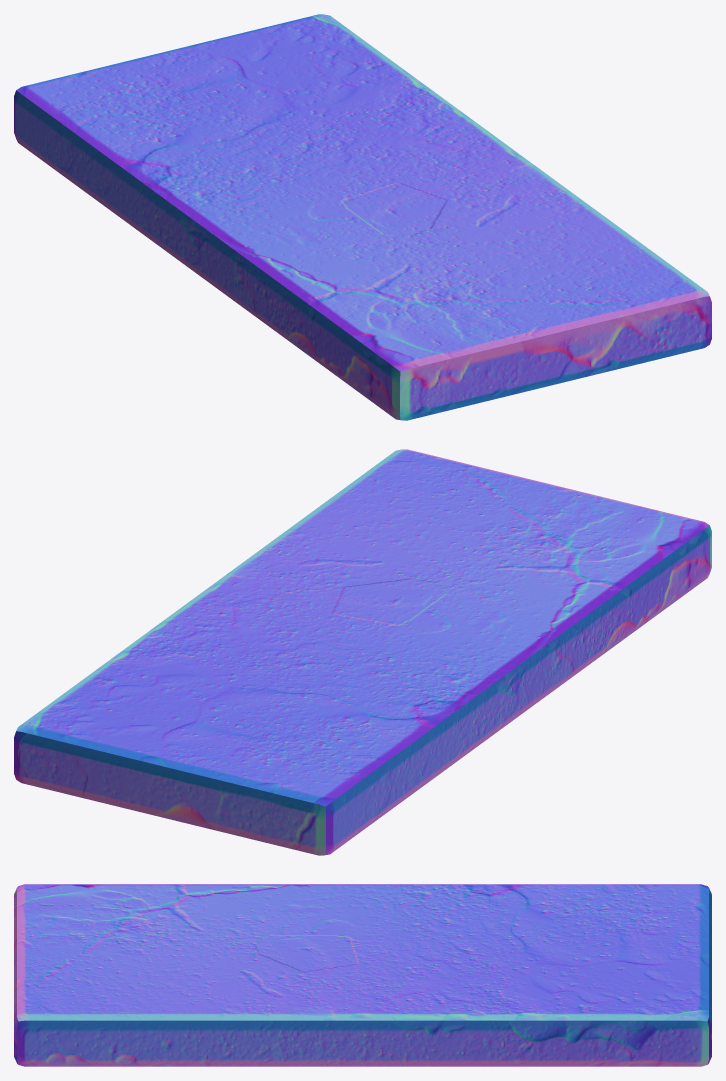
Rendered from Props_StoneShelf.fbx.
3 views of the same model, one above another, from view 1: azimuth 30°, elevation 25°; view 2: azimuth 150°, elevation 25°; view 3: azimuth 270°, elevation 25° (orthographic). The views are drawn at different scales.
Parts seen in each view (by area): view 1: CDTMesh_StoneShelf_HP; view 2: CDTMesh_StoneShelf_HP; view 3: CDTMesh_StoneShelf_HP.
Boxes of the visible parts, box(x1,y1,x2,y2) form: CDTMesh_StoneShelf_HP: box(14, 14, 711, 420); CDTMesh_StoneShelf_HP: box(14, 449, 711, 855); CDTMesh_StoneShelf_HP: box(14, 884, 711, 1066).
Bounding box in the file's own units: 1.24 × 0.2149 × 2.64.
